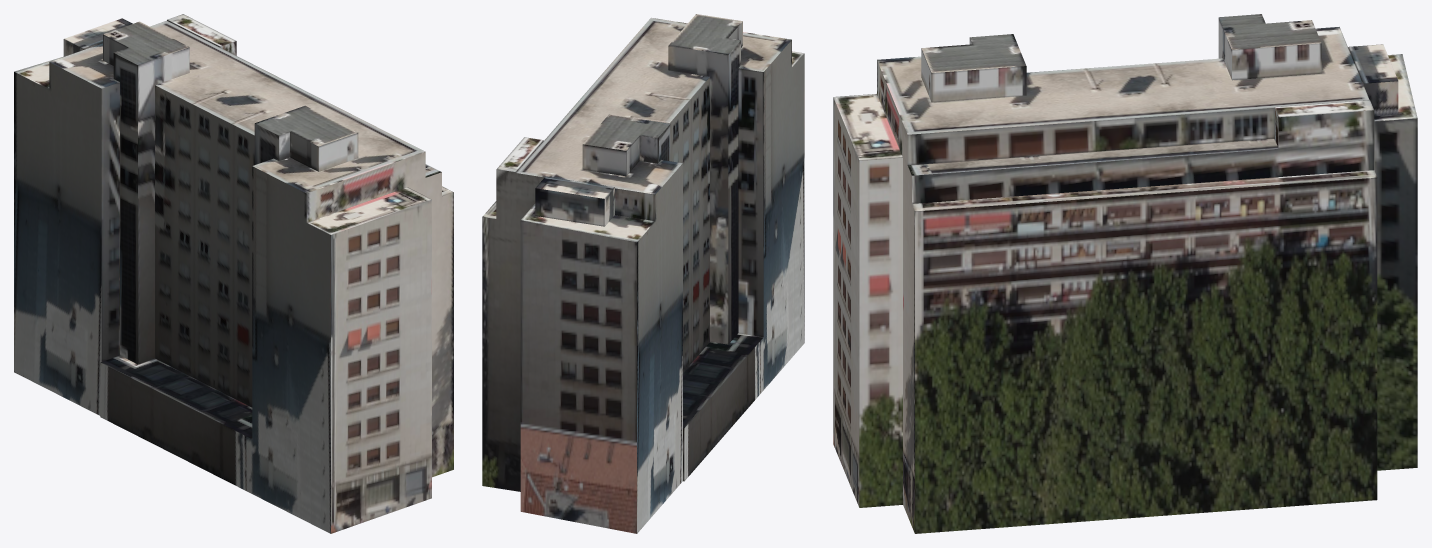
3 renders of one model, left to right at view 1: azimuth 30°, elevation 25°; view 2: azimuth 150°, elevation 25°; view 3: azimuth 270°, elevation 25°, orthographic. The views are drawn at different scales.
Visible parts, largest first — view 1: Z_UP; view 2: Z_UP; view 3: Z_UP.
Boxes of the visible parts, left/top/right/bottom form: Z_UP: left=14, top=14, right=453, bottom=533; Z_UP: left=482, top=14, right=804, bottom=533; Z_UP: left=833, top=14, right=1417, bottom=533.
Bounding box in the file's own units: 24.49 × 36.02 × 46.33.
2 materials, 1 textured.
